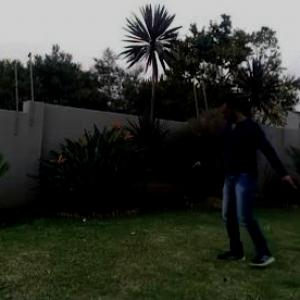land: (186, 87, 299, 278)
